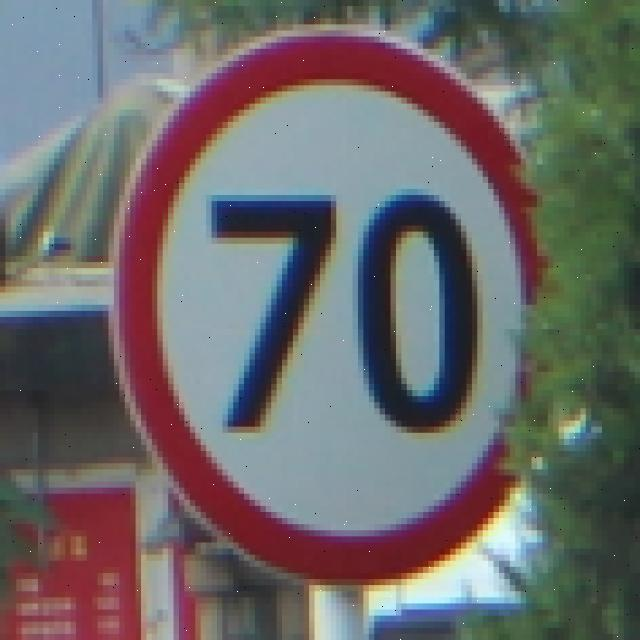speed limit 70: (110, 28, 556, 588)
